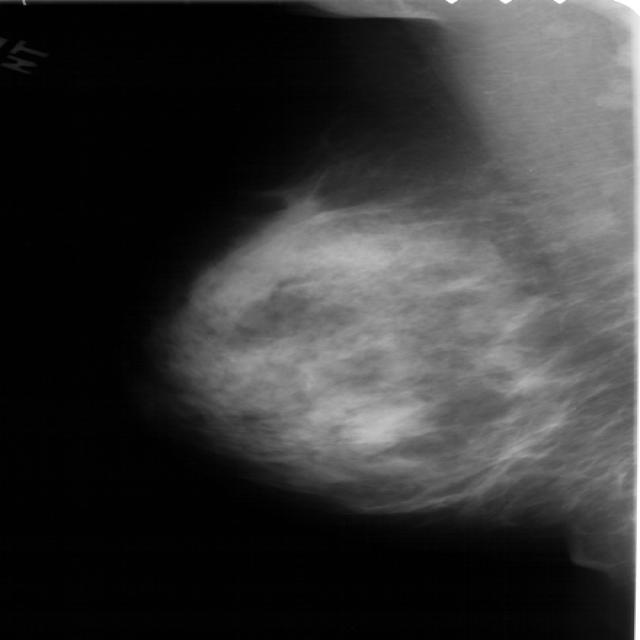tumour: (343, 400, 422, 449)
